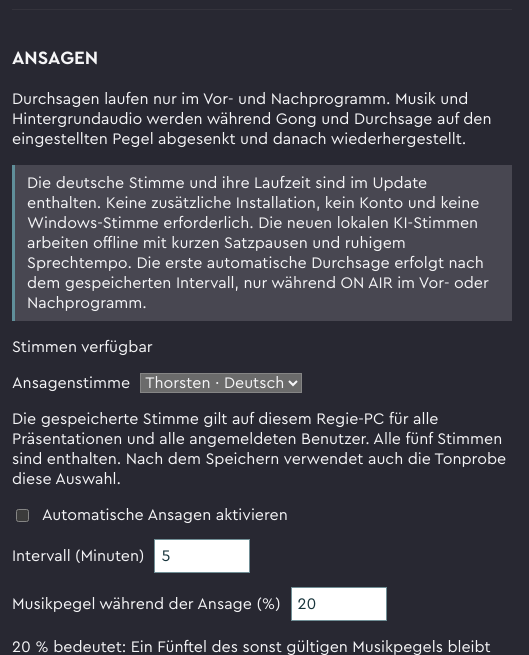
Scenario: inactive announcement preparation settings › selects a female voice centrally without enabling automatic announcements
Select "Kerstin · Deutsch" in the dropdown labelled "Ansagenstimme" at (221, 383), box [140,373,302,393]
(page scrolled)
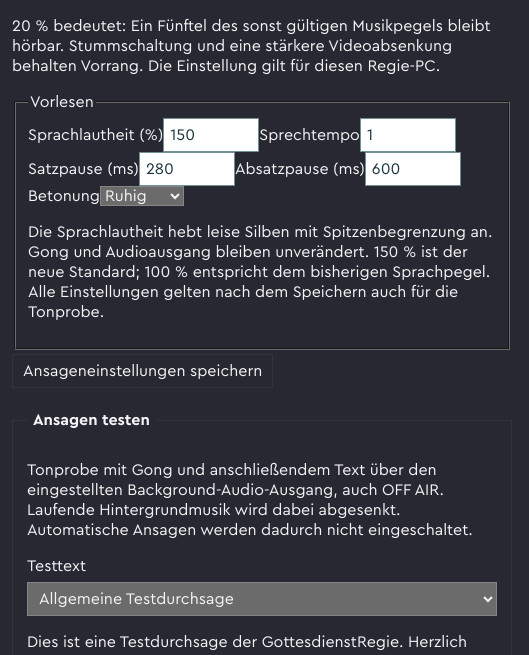
Click the button "Ansageneinstellungen speichern" at (143, 371), box [12,354,273,388]
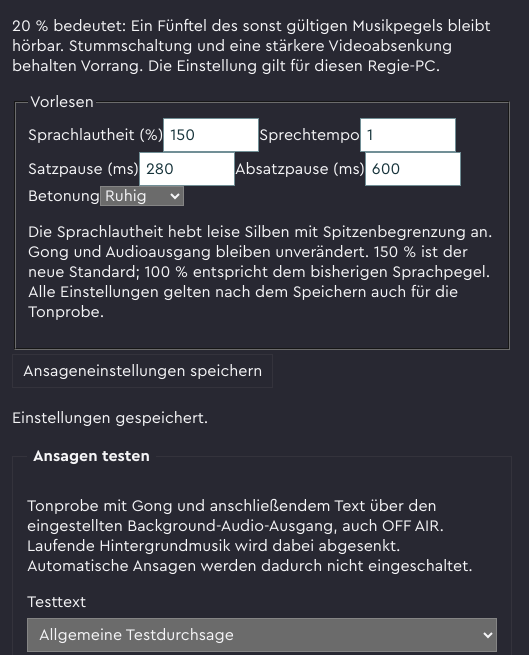
Expected: the text "Einstellungen gespeichert." is shown, [12,410,208,426]
